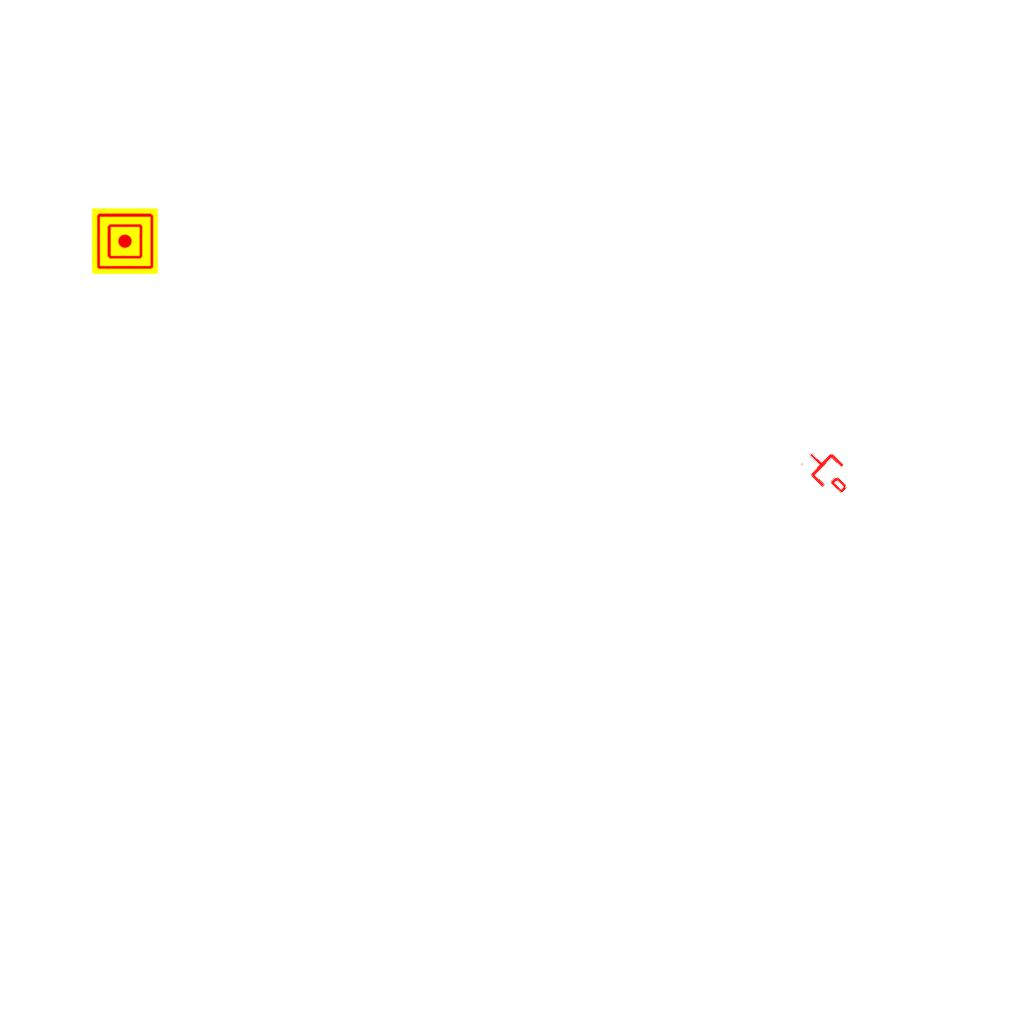Datenanschluss_einfach: (798, 441, 858, 501)
NAM-Nichtautomatischer_Melder: (92, 208, 158, 274)
